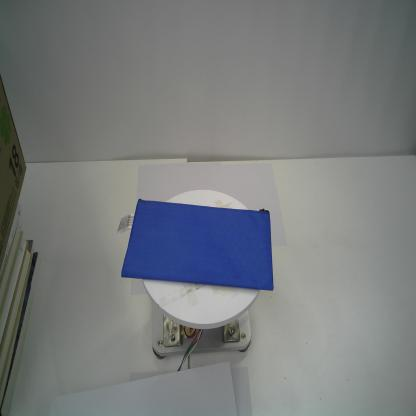Stationery: (120, 198, 274, 291)
